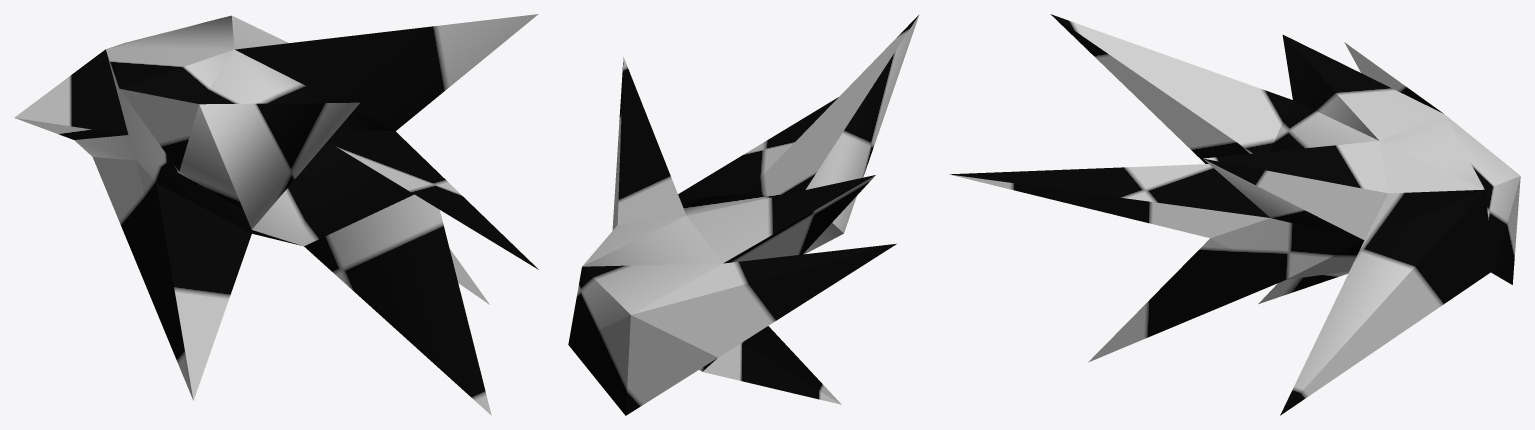
The model's file is drone_frozen_out.obj.
3 views of the same model, side by side, from view 1: azimuth 30°, elevation 25°; view 2: azimuth 150°, elevation 25°; view 3: azimuth 270°, elevation 25° (orthographic). The views are drawn at different scales.
Parts seen in each view (by area): view 1: frost_drone_lowpoly_ice; view 2: frost_drone_lowpoly_ice; view 3: frost_drone_lowpoly_ice.
Part boxes in pixels (x1,y1,x2,y2): frost_drone_lowpoly_ice: [14, 14, 538, 415]; frost_drone_lowpoly_ice: [568, 14, 919, 415]; frost_drone_lowpoly_ice: [949, 14, 1520, 415].
Bounding box in the file's own units: 26.8 × 22.75 × 38.86.
1 material, 1 textured.
